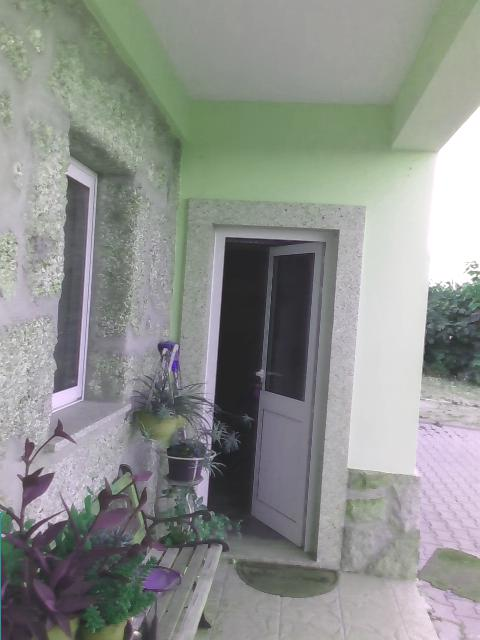semi_door: (195, 221, 339, 563)
